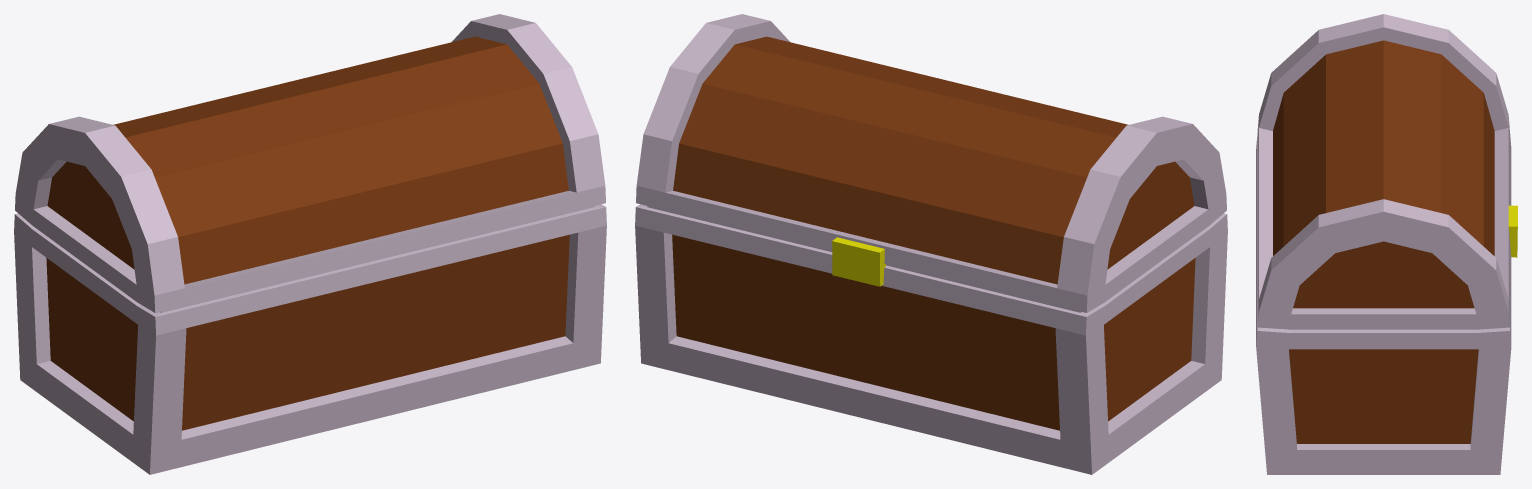
The model's file is Chest_Frederick James Prakoso_140810210016.fbx.
The picture shows the model from 3 angles, left to right: view 1: azimuth 30°, elevation 25°; view 2: azimuth 150°, elevation 25°; view 3: azimuth 270°, elevation 25°; orthographic projection. The views are drawn at different scales.
Visible parts, largest first — view 1: Cylinder; view 2: Cylinder, Cylinder.001; view 3: Cylinder, Cylinder.001.
Boxes of the visible parts, <box> form: Cylinder: <box>14,14,606,474</box>; Cylinder: <box>635,14,1227,474</box>; Cylinder.001: <box>832,237,885,286</box>; Cylinder: <box>1256,14,1511,474</box>; Cylinder.001: <box>1508,205,1517,257</box>.
Bounding box in the file's own units: 360 × 225 × 201.
